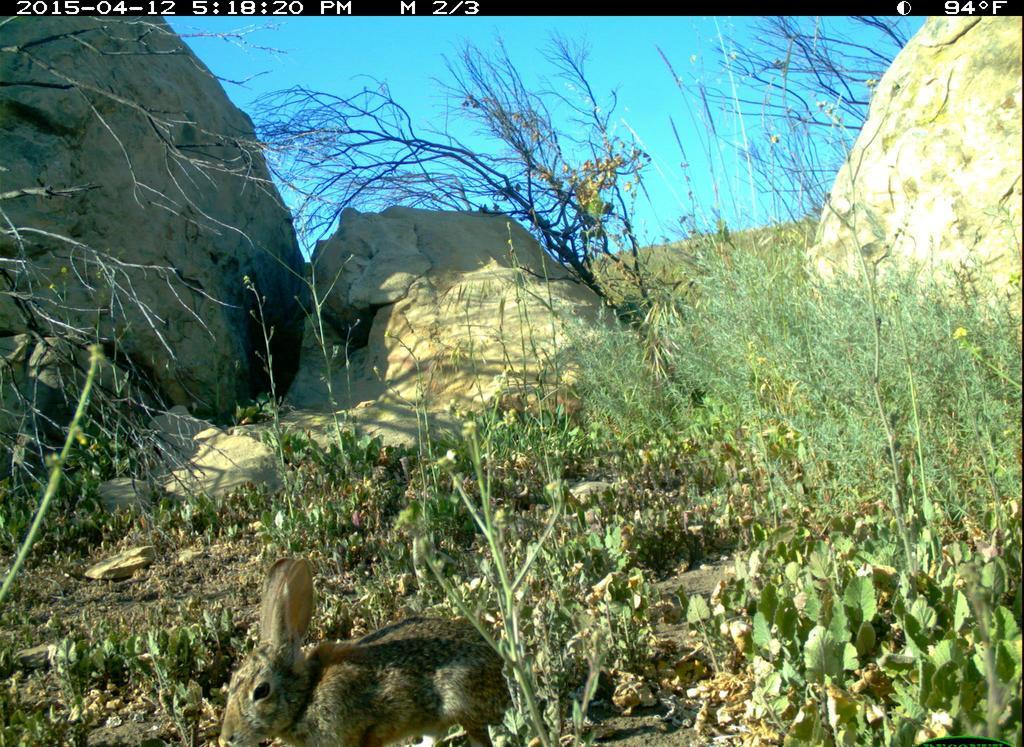rabbit: (203, 539, 561, 739)
